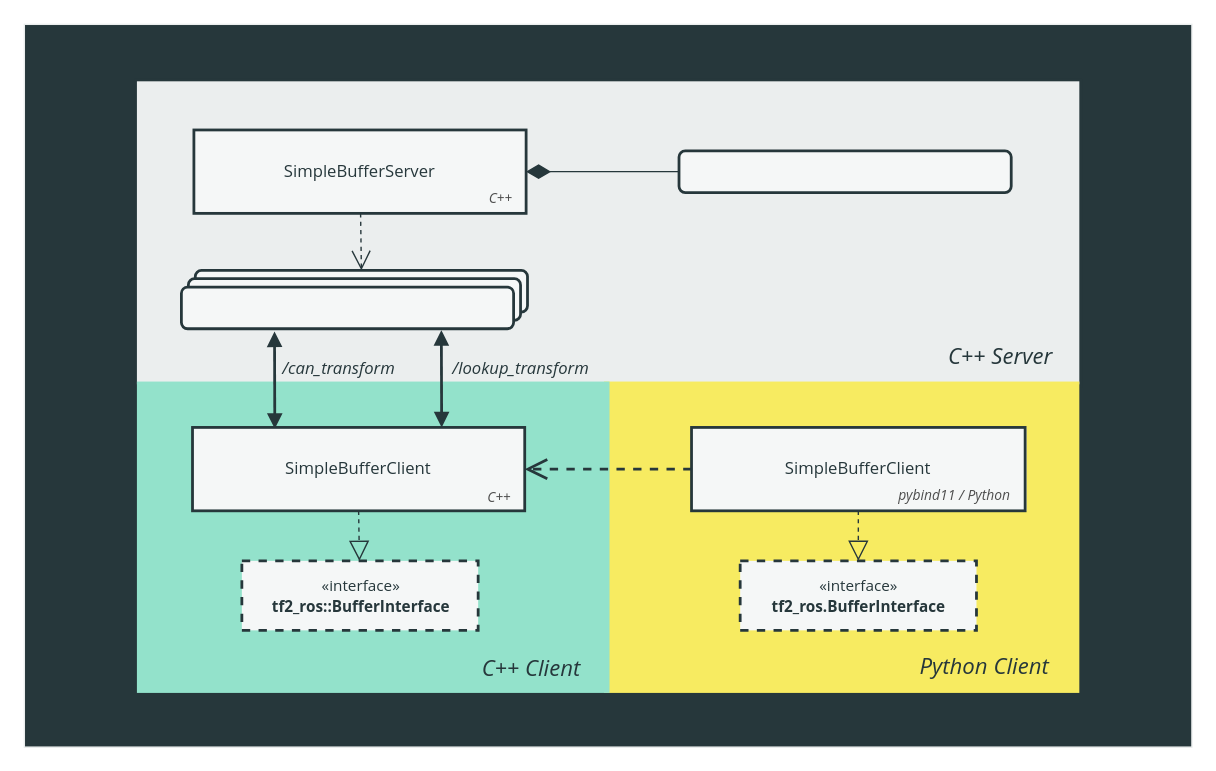
This 1216x771 diagram has some shape labels left out. The shapes that lost their labels are listed below. From the top down, each one's box as (x1, y1, x2, y2) in pixels, then its label:
(677, 149, 1012, 193): tf2_ros::Buffer
(179, 285, 514, 329): Request Queues
